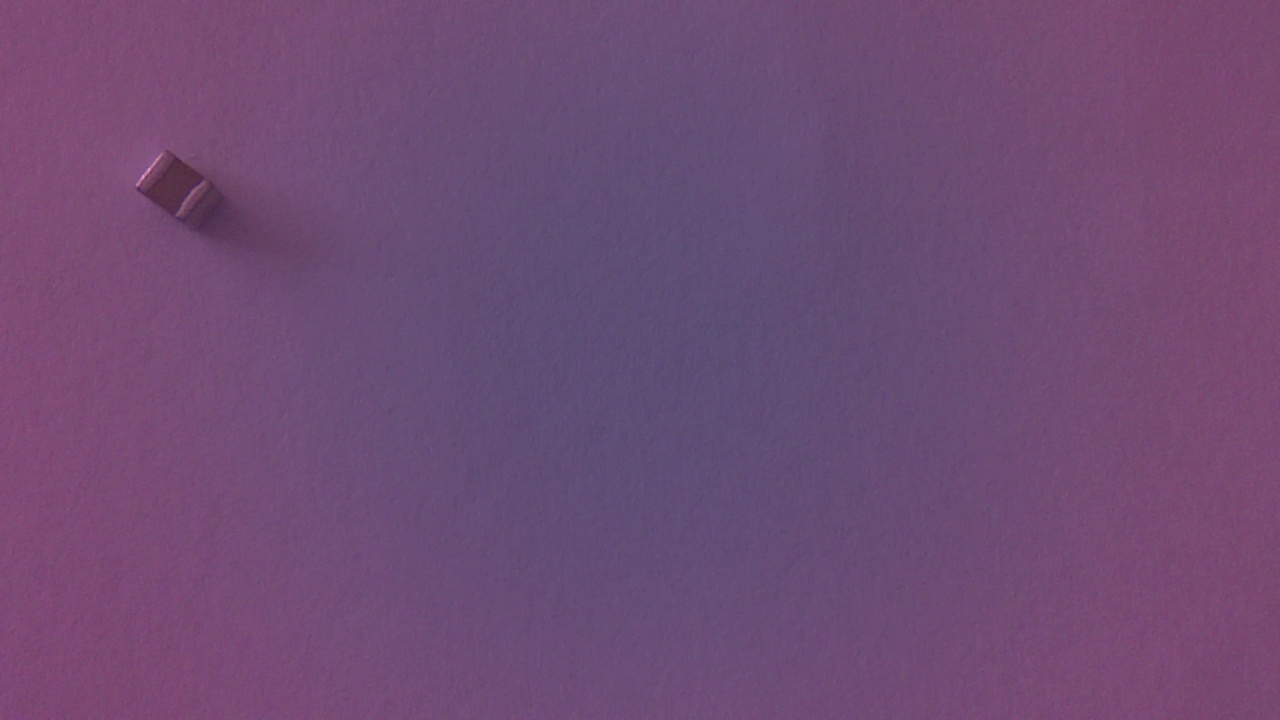Condensator: (133, 149, 234, 239)
